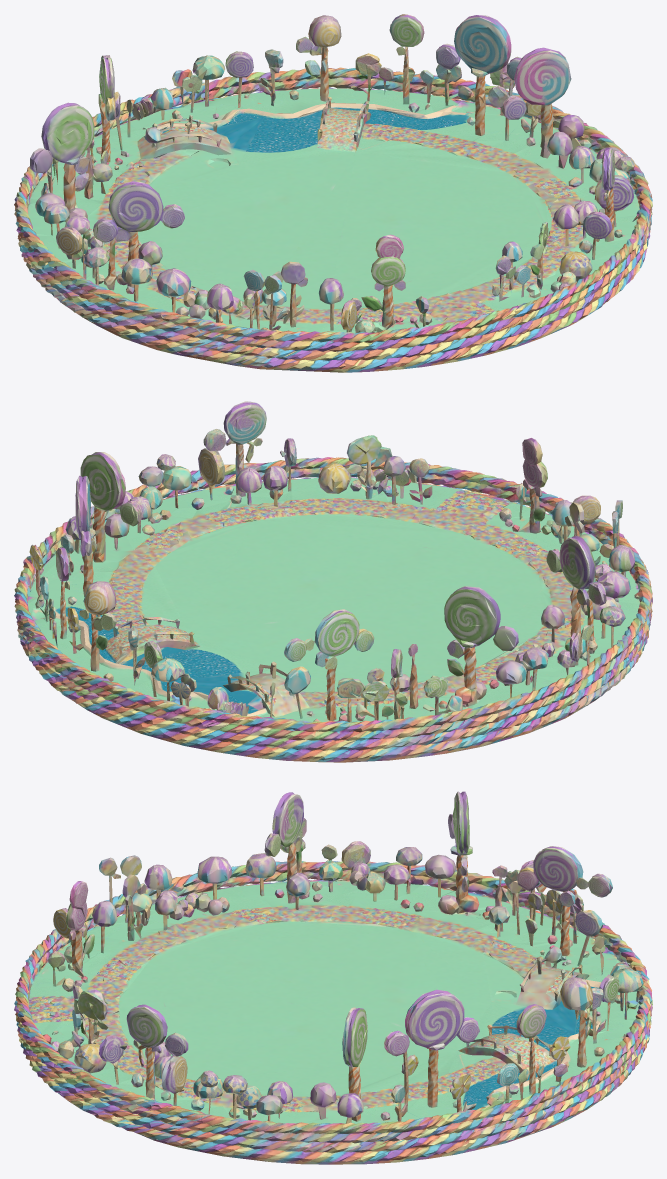
File: lollipop-candy-garden-v1.glb
3 renders of one model, top to bottom at view 1: azimuth 30°, elevation 25°; view 2: azimuth 150°, elevation 25°; view 3: azimuth 270°, elevation 25°, orthographic.
Bounding box in the file's own units: 1.9 × 0.4672 × 1.91.
1 material, 1 textured.
